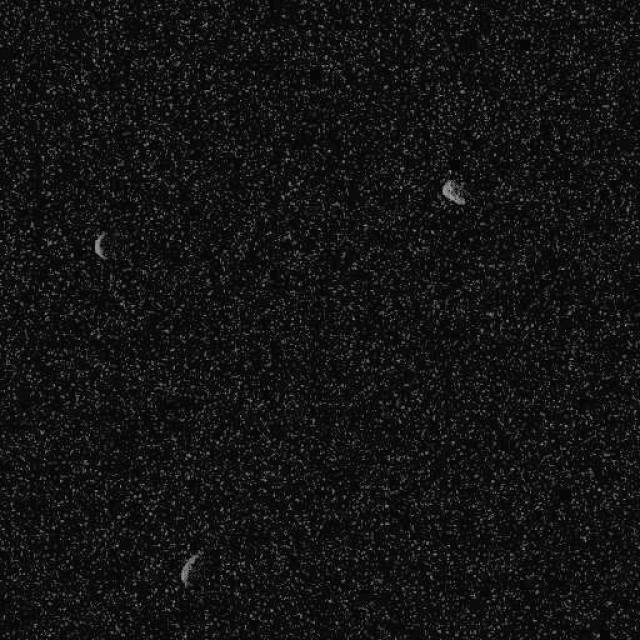D2: (178, 550, 202, 589), (440, 176, 466, 206), (91, 230, 111, 260)
